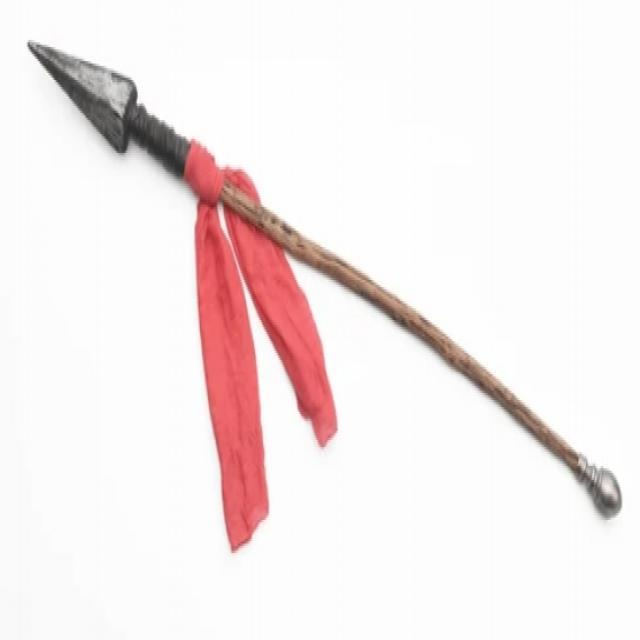spear: (21, 21, 628, 578)
